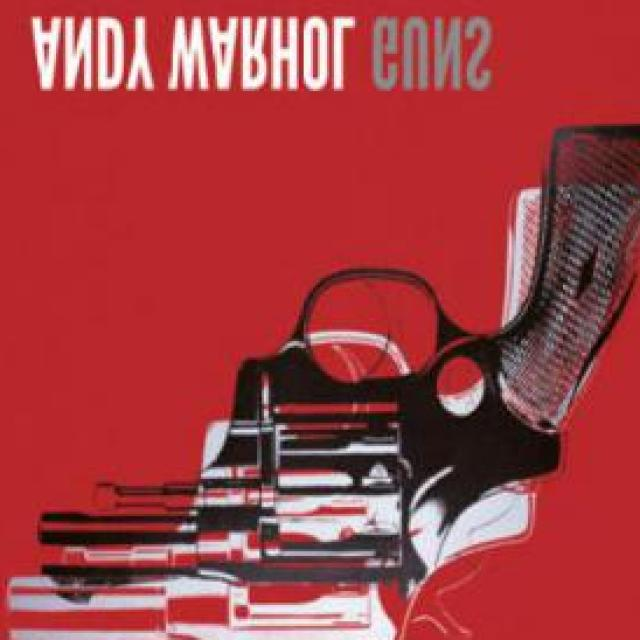pistol: (39, 122, 640, 610), (4, 180, 640, 640)
